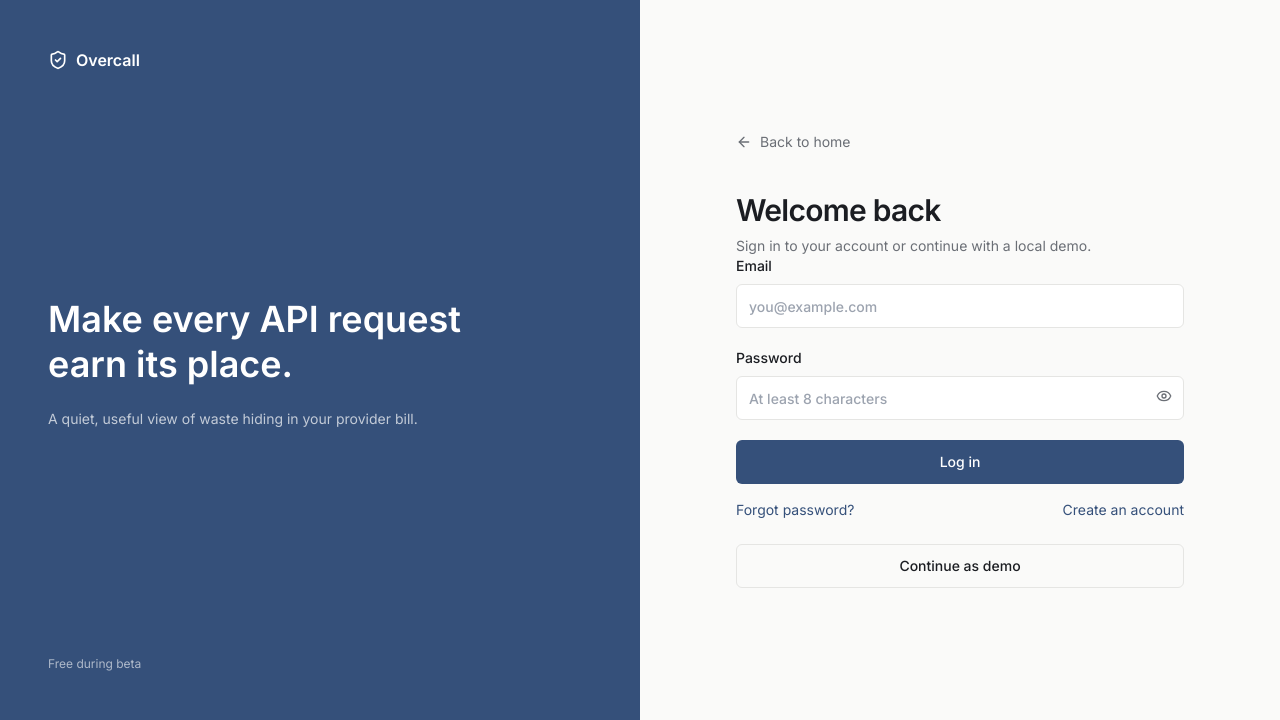
Test: AuthPage › requires an eight-character password
The image size is (1280, 720).
Step 1. Type "person@example.com" into the field labelled "Email" → {"x": 960, "y": 306}, box [736, 284, 1184, 328]
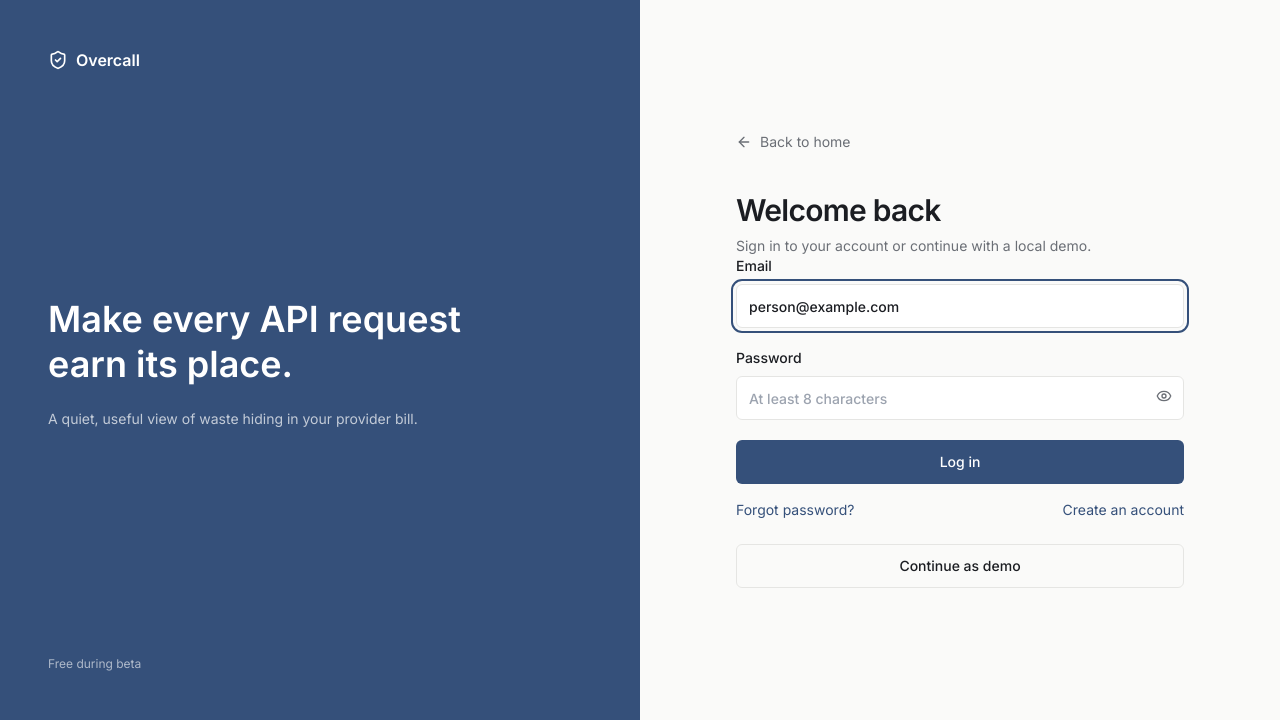
Step 2. Type "short" into the password field labelled "Password" → {"x": 960, "y": 398}, box [736, 376, 1184, 420]
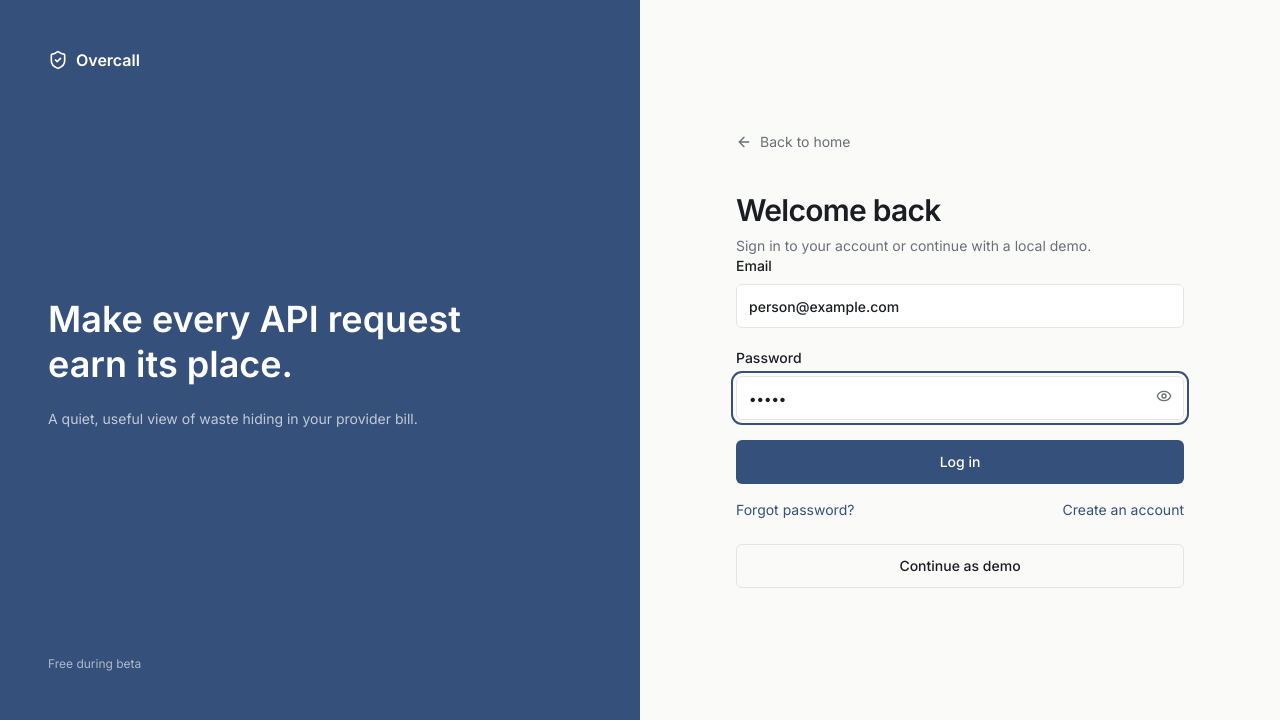
Step 3. Click the button "Log in" → {"x": 960, "y": 462}, box [736, 440, 1184, 484]
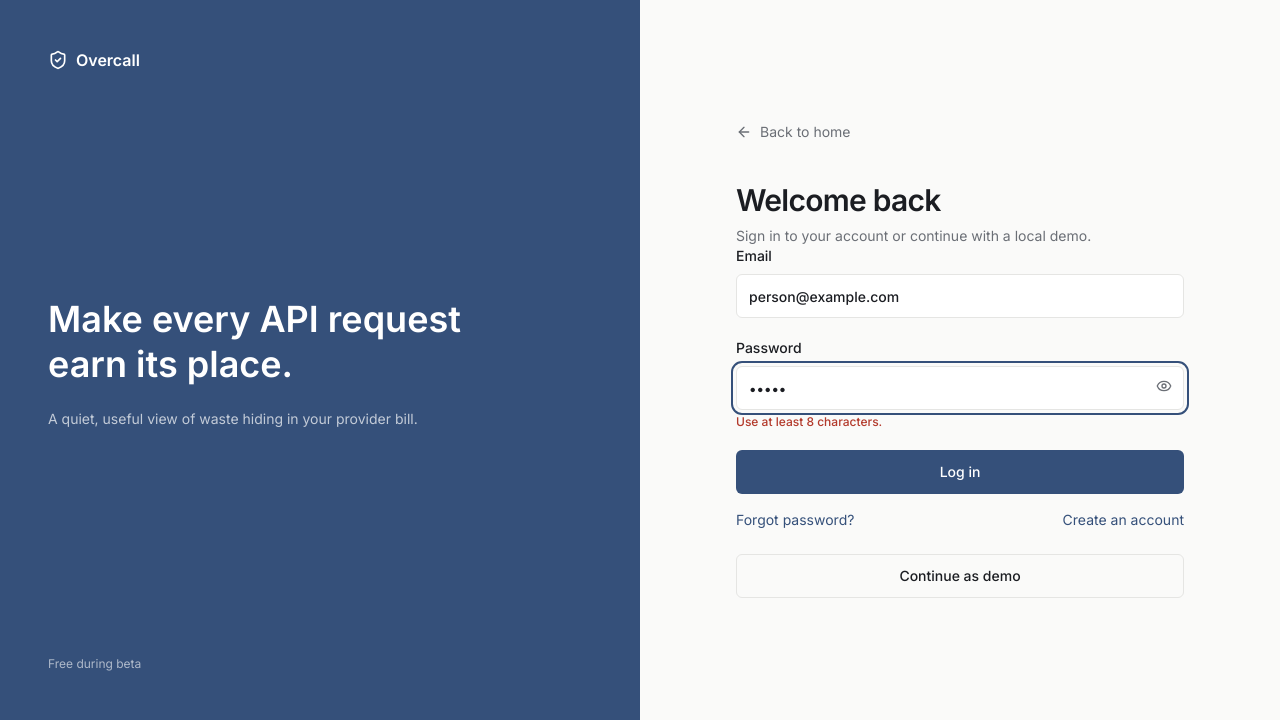
Expected: the text "Use at least 8 characters." is shown, [736, 414, 882, 429]
